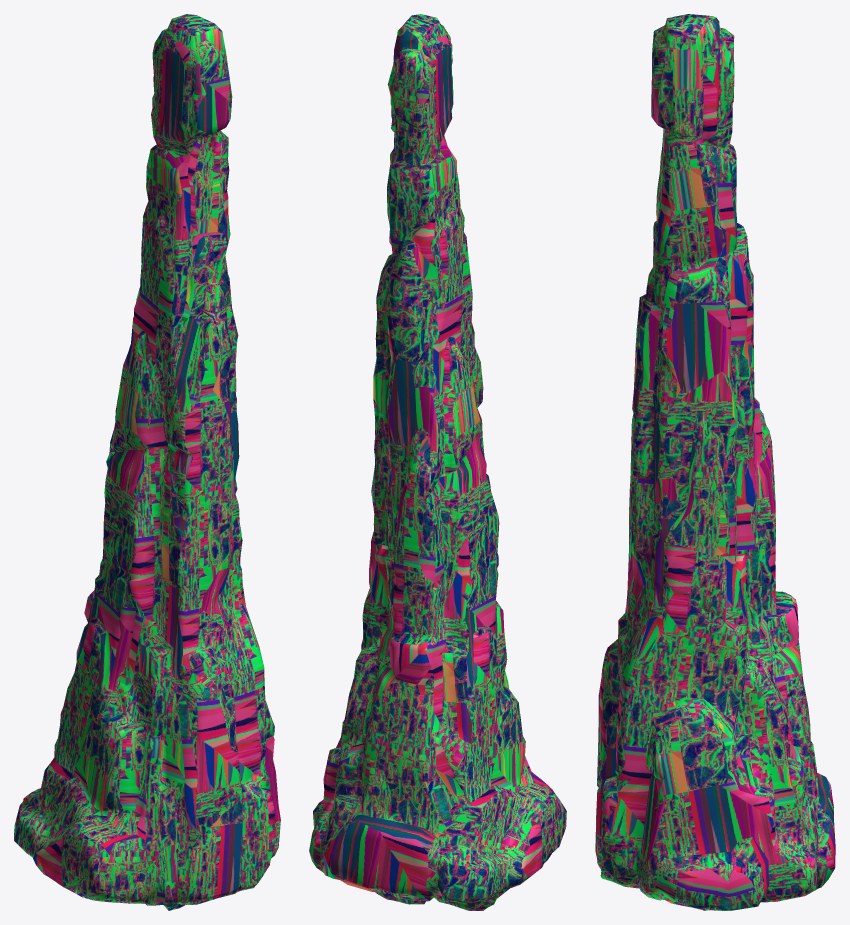
Rendered from SM_Rock3.fbx.
3 views of the same model, side by side, from view 1: azimuth 30°, elevation 25°; view 2: azimuth 150°, elevation 25°; view 3: azimuth 270°, elevation 25° (orthographic). The views are drawn at different scales.
Parts seen in each view (by area): view 1: SM_Rock3_LOD0; view 2: SM_Rock3_LOD0; view 3: SM_Rock3_LOD0.
Boxes of the visible parts, <box> form: SM_Rock3_LOD0: <box>14,14,280,910</box>; SM_Rock3_LOD0: <box>309,14,566,910</box>; SM_Rock3_LOD0: <box>595,14,835,910</box>.
Bounding box in the file's own units: 223 × 211 × 851.
Materials: 1 (1 with a texture image).
